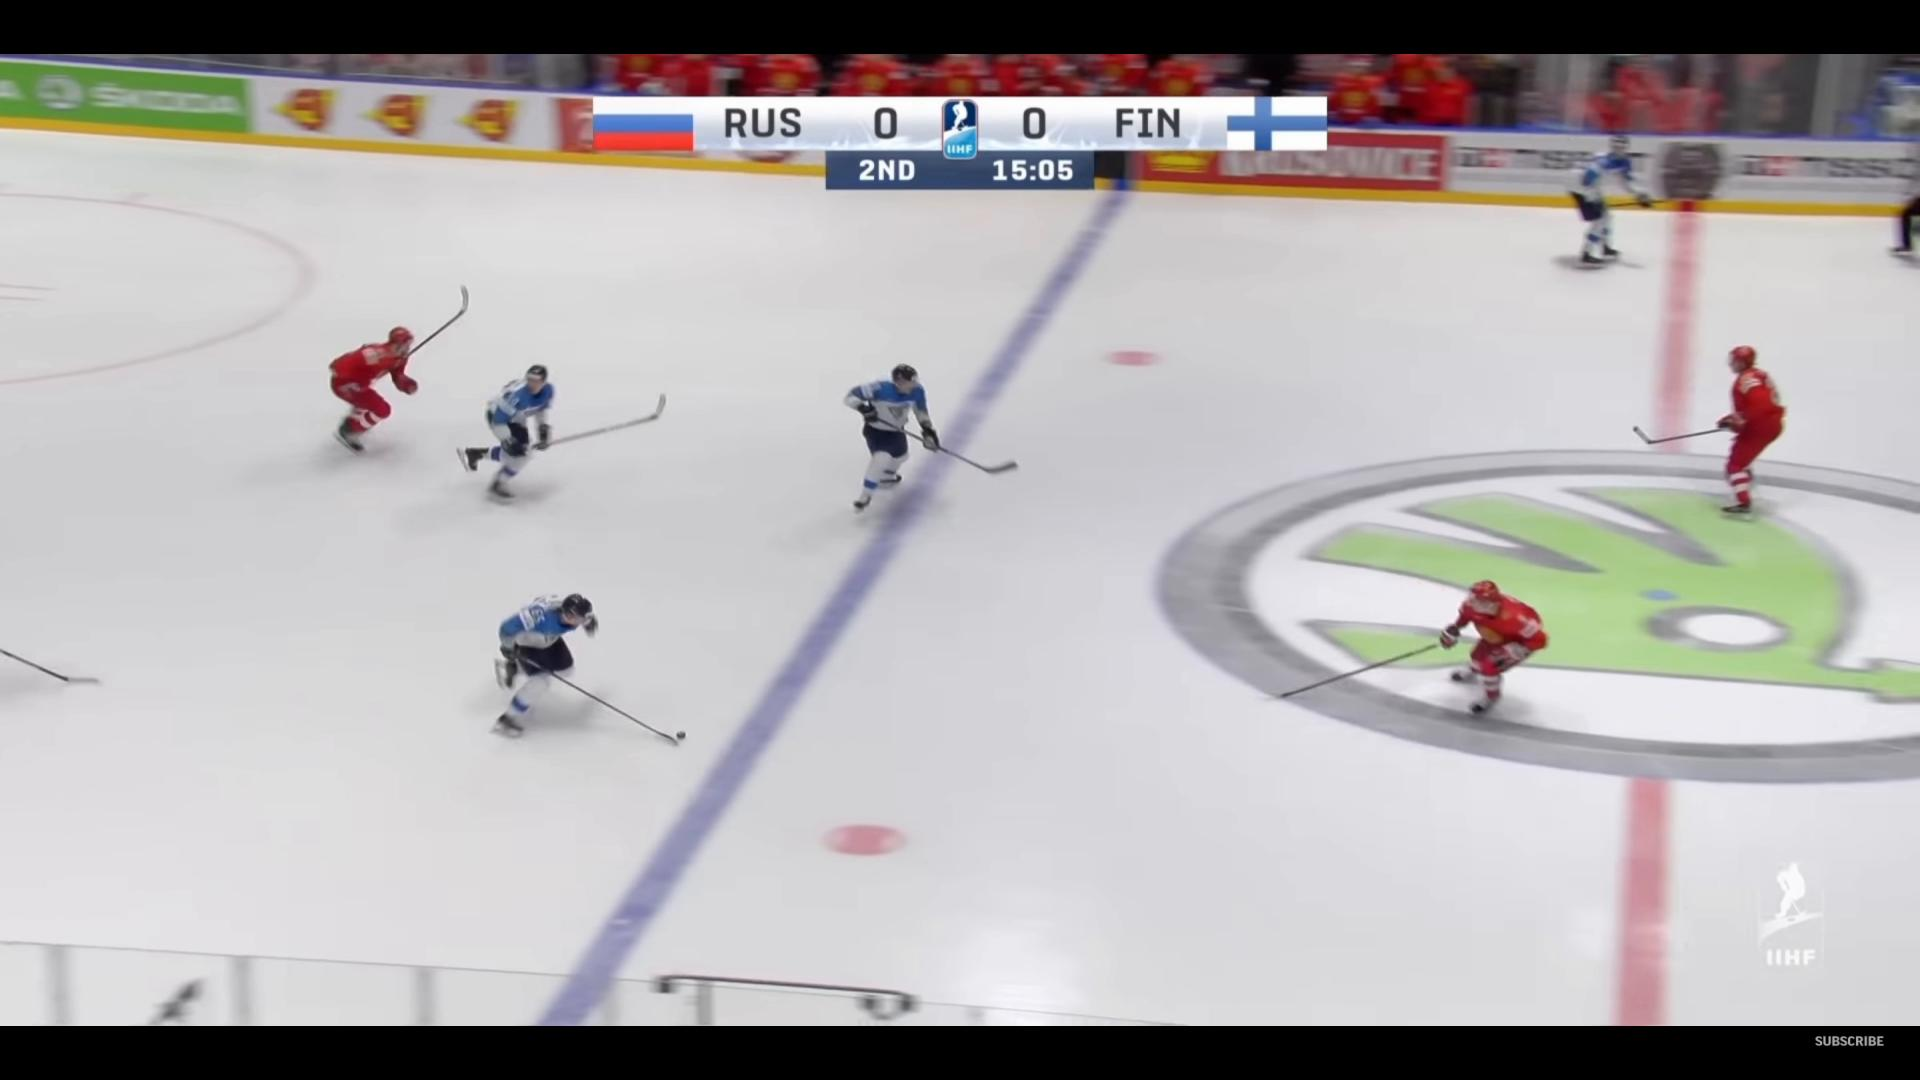puck: (675, 731, 686, 738)
